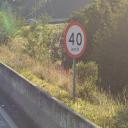speed_limit_40: (63, 21, 88, 59)
